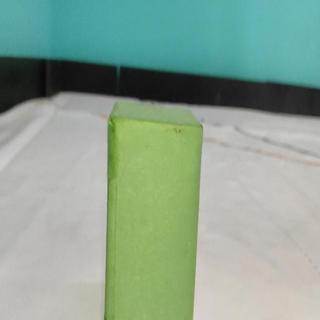greenbox: (105, 96, 205, 320)
